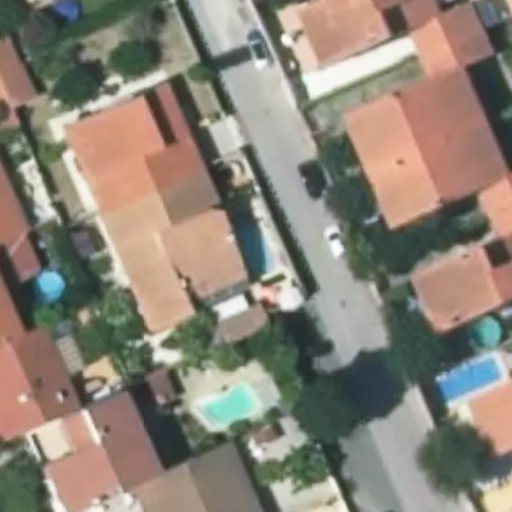pool: (227, 215, 283, 268)
